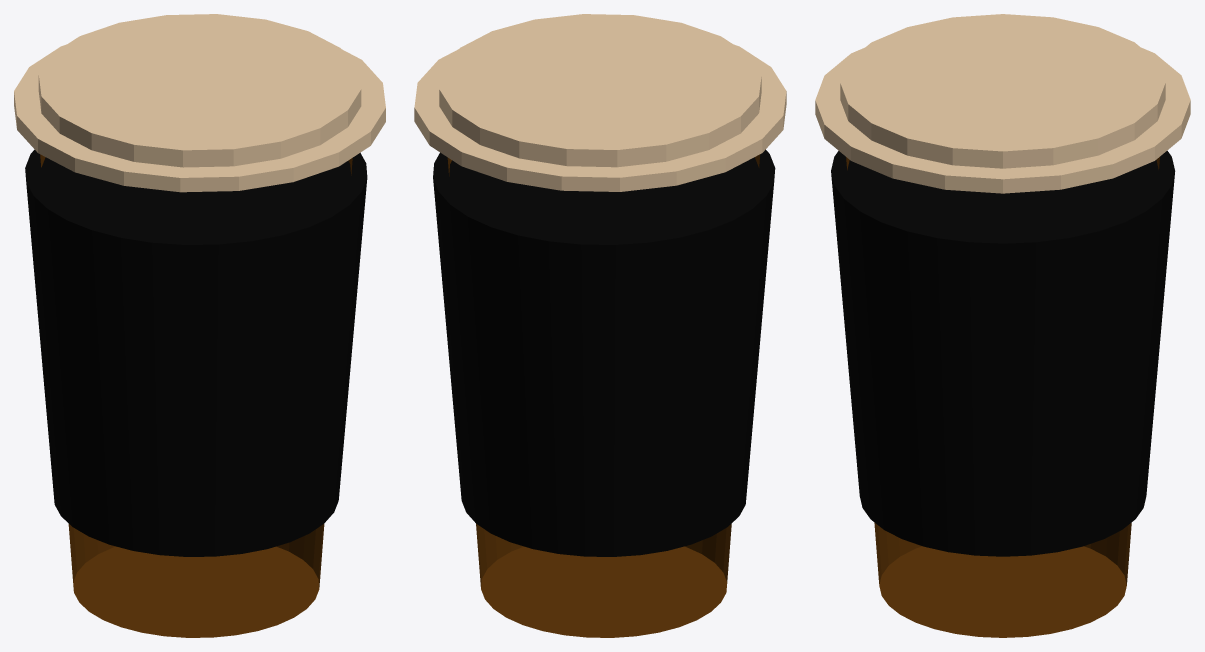
File: 1cup.fbx
The picture shows the model from 3 angles, left to right: view 1: azimuth 30°, elevation 25°; view 2: azimuth 150°, elevation 25°; view 3: azimuth 270°, elevation 25°; orthographic projection.
Parts seen in each view (by area): view 1: Cylinder.001, coffee_cup_lid, Circle.001; view 2: Cylinder.001, coffee_cup_lid, Circle.001; view 3: Cylinder.001, coffee_cup_lid, Circle.001.
Boxes of the visible parts, x1,y1,x2,y2 form: Cylinder.001: [25, 149, 367, 556]; coffee_cup_lid: [14, 14, 385, 192]; Circle.001: [40, 154, 352, 637]; Cylinder.001: [433, 149, 775, 556]; coffee_cup_lid: [414, 14, 786, 191]; Circle.001: [447, 154, 760, 637]; Cylinder.001: [831, 150, 1175, 556]; coffee_cup_lid: [815, 14, 1190, 193]; Circle.001: [846, 157, 1159, 637].
Size of the model in its own units: 418 by 621 by 418.
